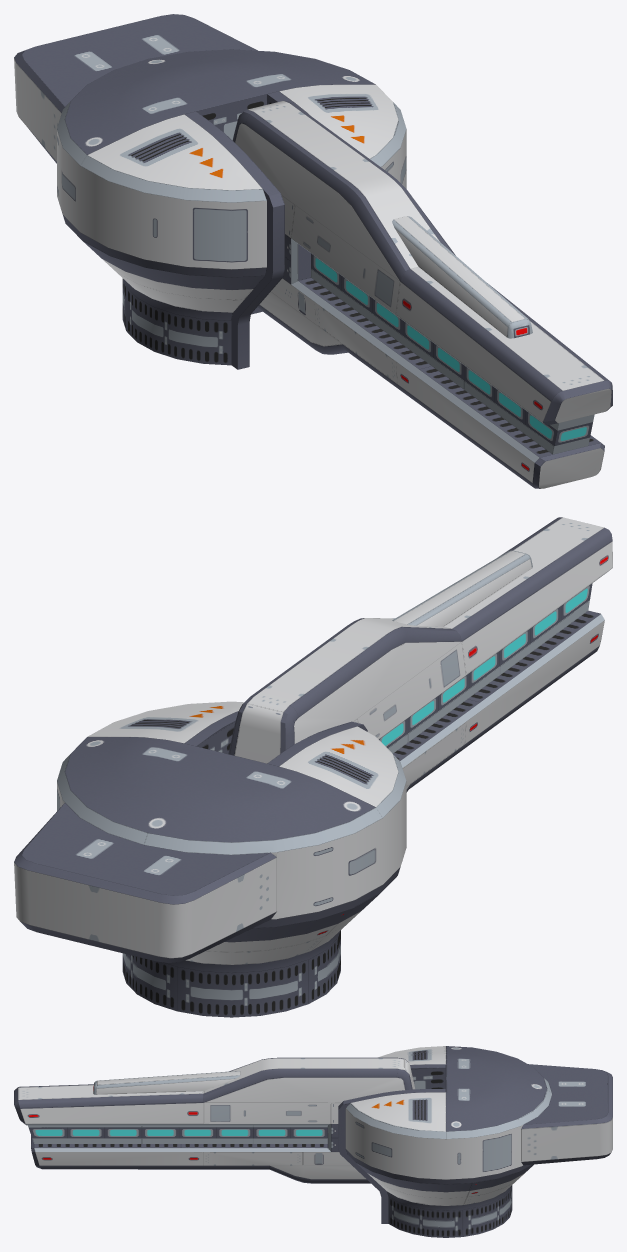
The model's file is Turret_Simple_01.FBX.
3 renders of one model, top to bottom at view 1: azimuth 30°, elevation 25°; view 2: azimuth 150°, elevation 25°; view 3: azimuth 270°, elevation 25°, orthographic. The views are drawn at different scales.
Visible parts, largest first — view 1: Turret_Base_01, Turret_Gun_01; view 2: Turret_Base_01, Turret_Gun_01; view 3: Turret_Base_01, Turret_Gun_01.
Boxes of the visible parts, bbox=[...] form: Turret_Base_01: bbox=[14, 14, 406, 369]; Turret_Gun_01: bbox=[232, 100, 612, 488]; Turret_Base_01: bbox=[14, 701, 406, 1017]; Turret_Gun_01: bbox=[228, 517, 612, 792]; Turret_Base_01: bbox=[338, 1046, 612, 1237]; Turret_Gun_01: bbox=[14, 1057, 415, 1183].
Size of the model in its own units: 6.41 by 4.87 by 18.06.
4 materials, 4 textured.
